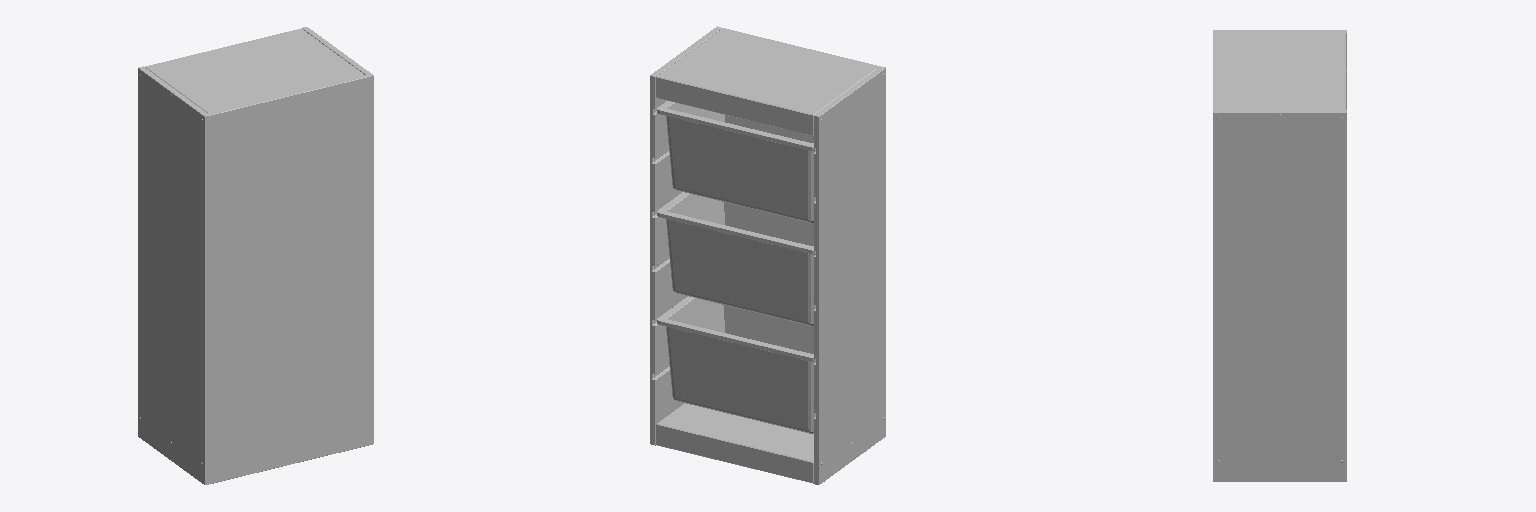
File: closet2.obj
3 renders of one model, left to right at view 1: azimuth 30°, elevation 25°; view 2: azimuth 150°, elevation 25°; view 3: azimuth 270°, elevation 25°, orthographic.
Visible parts, largest first — view 1: adc5012b4c40835fa[number redacted]c54cd1b8d2ca8875; view 2: adc5012b4c40835fa[number redacted]c54cd1b8d2ca8875; view 3: adc5012b4c40835fa[number redacted]c54cd1b8d2ca8875.
Boxes of the visible parts, x1=… form: adc5012b4c40835fa[number redacted]c54cd1b8d2ca8875: x1=138, y1=27, x2=373, y2=484; adc5012b4c40835fa[number redacted]c54cd1b8d2ca8875: x1=650, y1=26, x2=885, y2=484; adc5012b4c40835fa[number redacted]c54cd1b8d2ca8875: x1=1213, y1=30, x2=1346, y2=481.
Size of the model in its own units: 44 by 91 by 30.